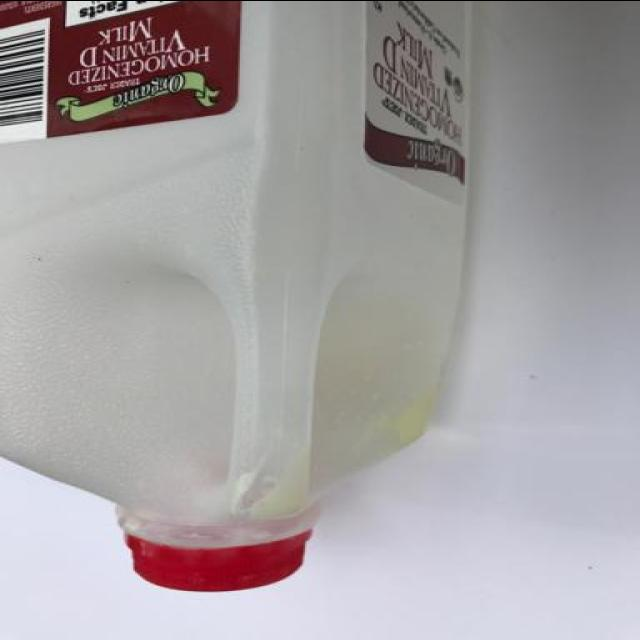litter: (0, 1, 475, 596)
